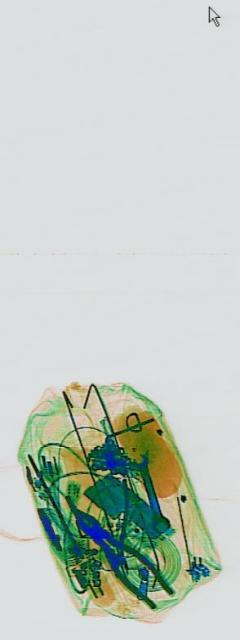Pliers: (62, 427, 140, 619), (70, 488, 172, 626)
Wrench: (129, 439, 169, 546)
